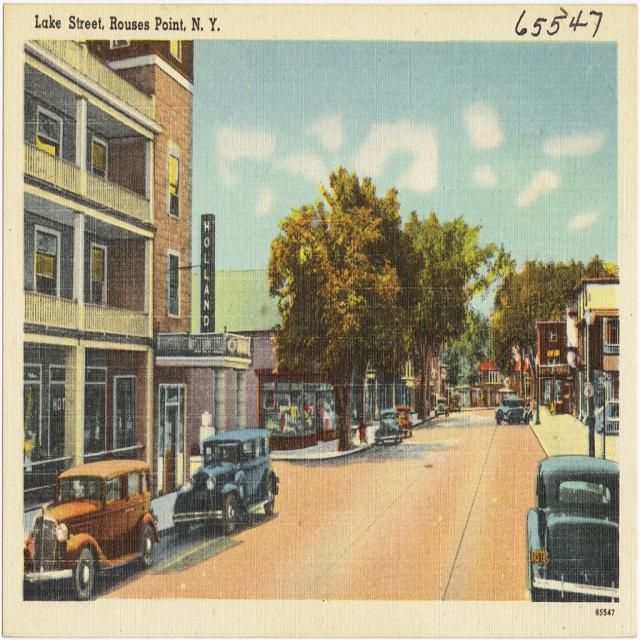Passenger Car: (24, 461, 161, 598), (526, 459, 621, 601), (173, 426, 279, 546), (494, 396, 530, 428), (374, 411, 402, 445)
